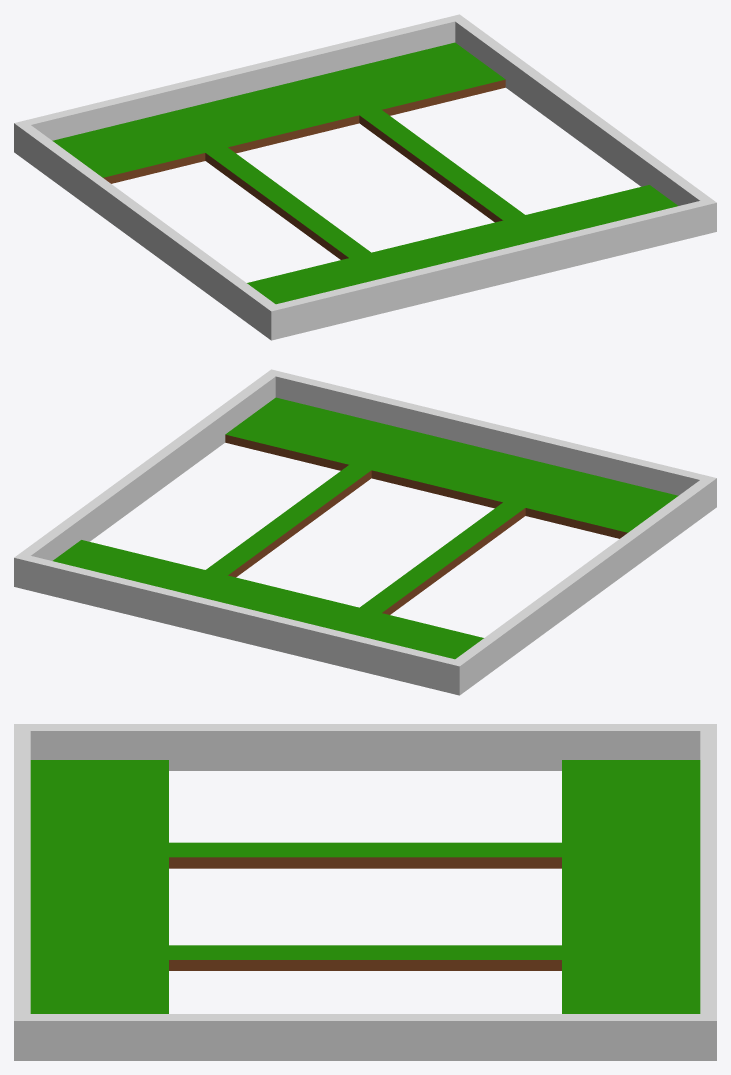
The model's file is Stage1.fbx.
3 views of the same model, one above another, from view 1: azimuth 30°, elevation 25°; view 2: azimuth 150°, elevation 25°; view 3: azimuth 270°, elevation 25° (orthographic). The views are drawn at different scales.
Visible parts, largest first — view 1: Barrier, Ground1; view 2: Barrier, Ground1; view 3: Ground1, Barrier.
Boxes of the visible parts, x1,y1,x2,y2 form: Barrier: [14, 14, 716, 340]; Ground1: [52, 42, 677, 304]; Barrier: [14, 369, 716, 695]; Ground1: [53, 397, 678, 659]; Ground1: [30, 760, 700, 1013]; Barrier: [14, 724, 716, 1060].
Size of the model in its own units: 800 by 50 by 800.
